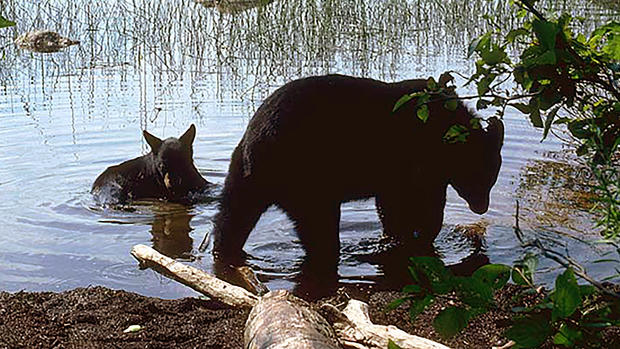bear: (429, 115, 513, 221), (138, 128, 203, 193)
